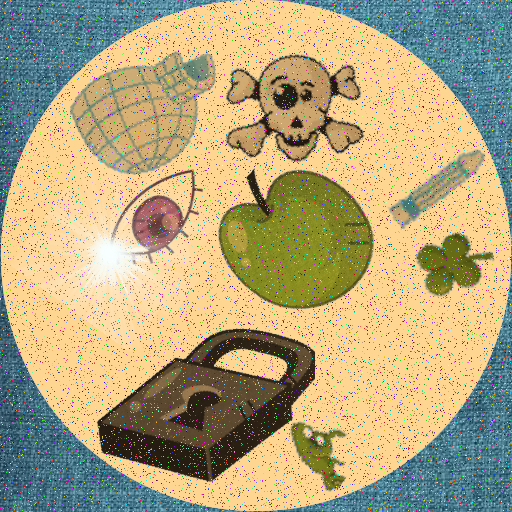apple_icon: (211, 165, 376, 330)
cloverleaf_icon: (414, 229, 496, 311)
dino_icon: (277, 418, 353, 494)
eye_icon: (96, 157, 216, 277)
igloo_icon: (70, 22, 231, 183)
lock_icon: (96, 292, 315, 511)
pen_icon: (384, 132, 494, 242)
skull_icon: (217, 25, 379, 187)
